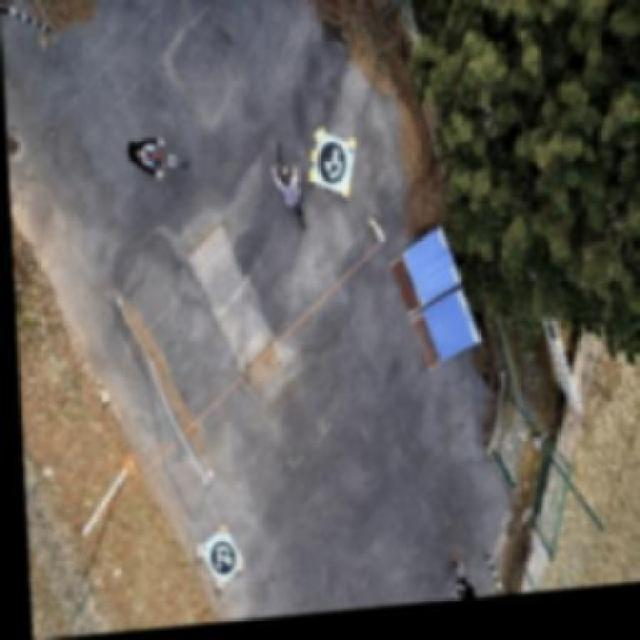Person: (266, 163, 312, 223), (126, 132, 171, 188), (434, 554, 477, 608)
